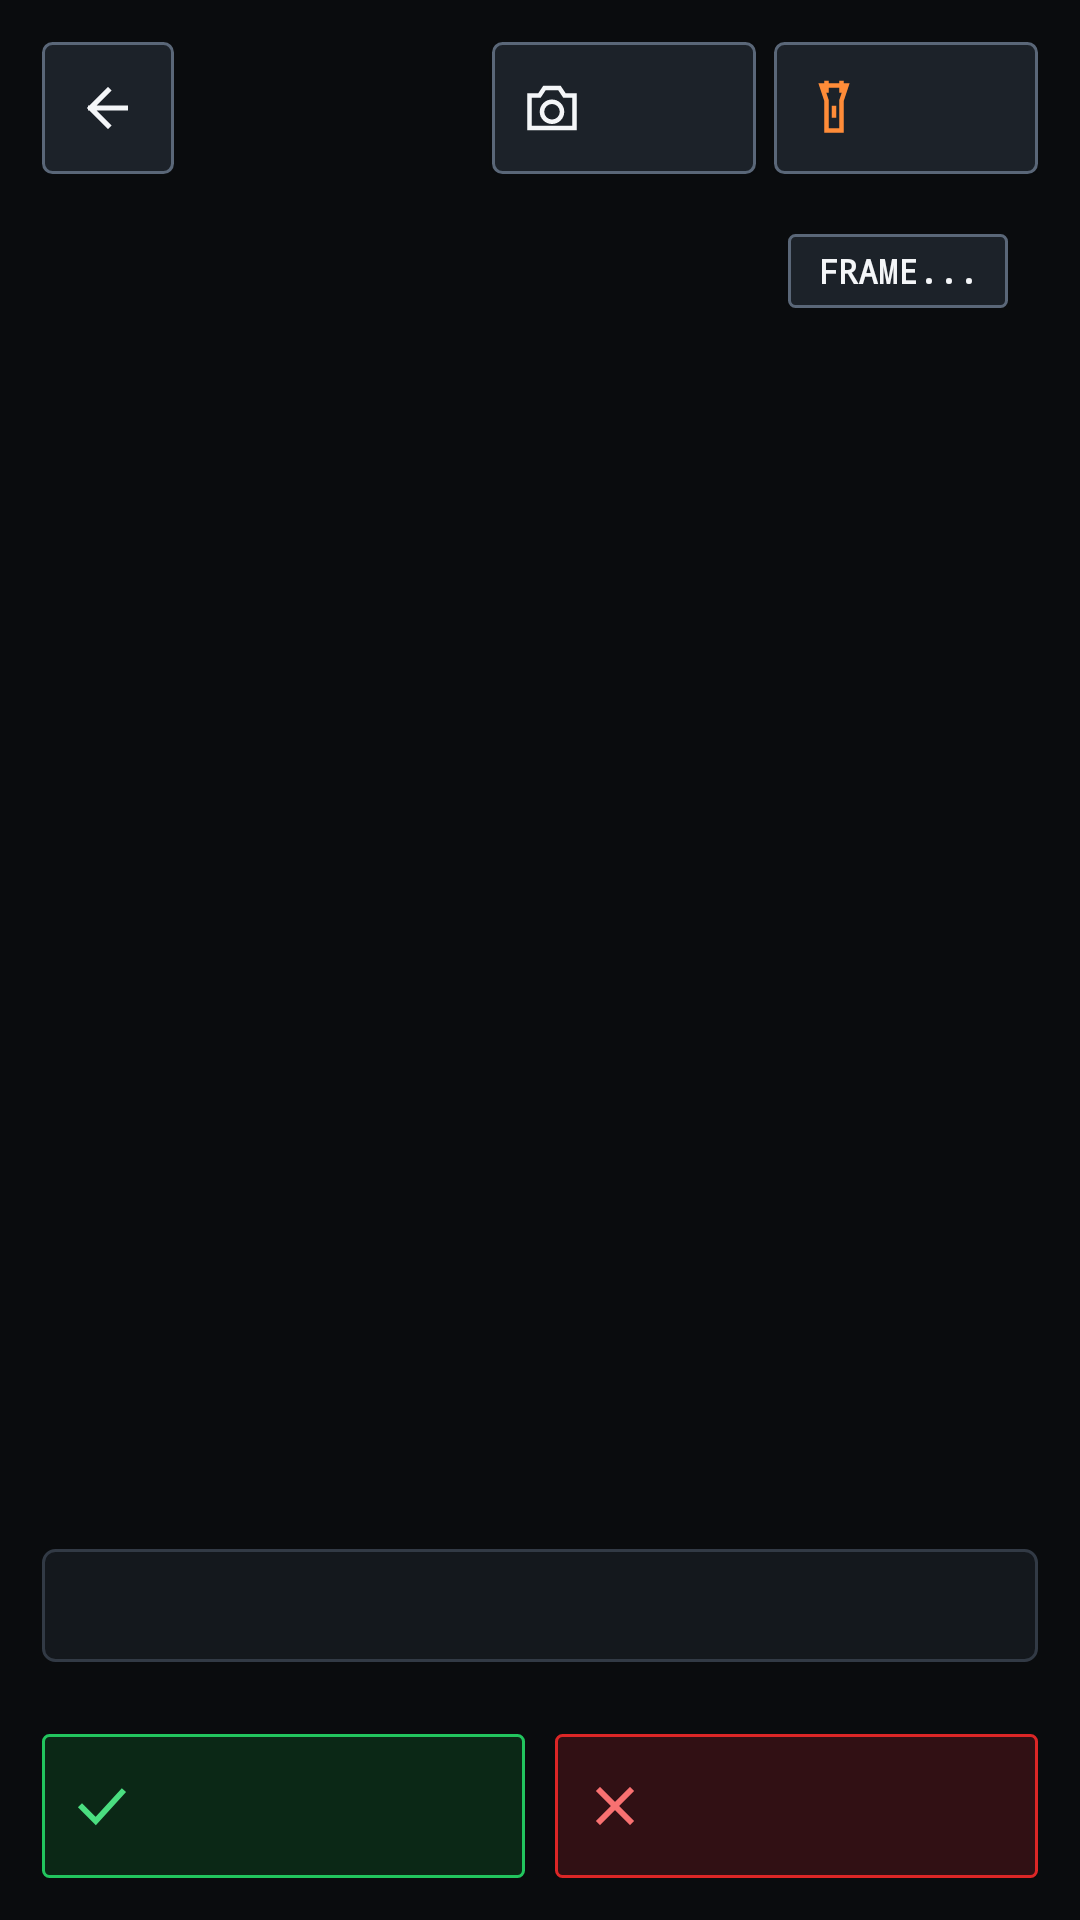

Icons on this 1080px×1920px Android screen, each with its box as BBox(x1, y1, x2, y2):
Back: BBox(42, 42, 174, 174)
